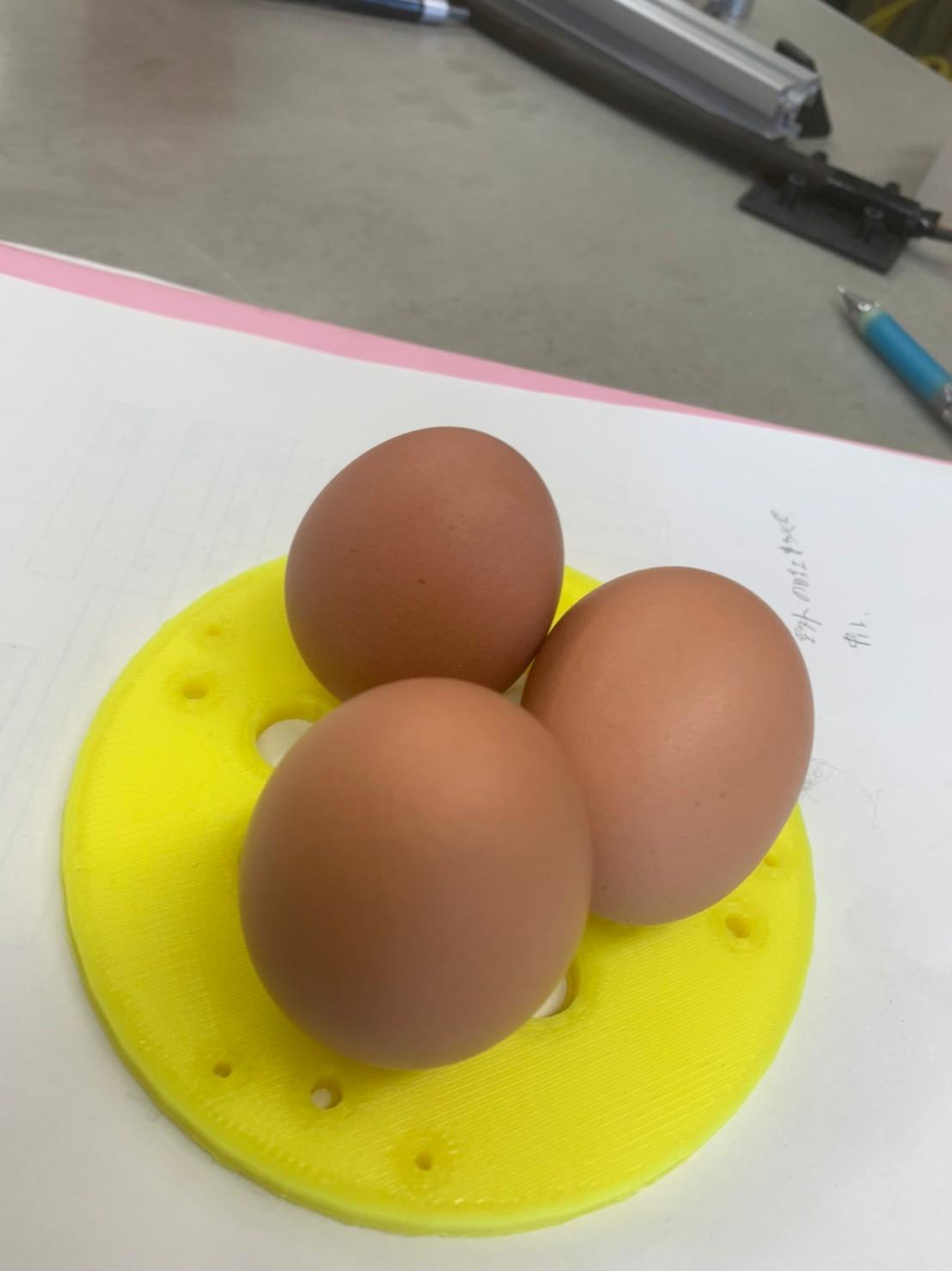egg: (232, 669, 591, 1082), (521, 553, 819, 932), (276, 427, 566, 701)
